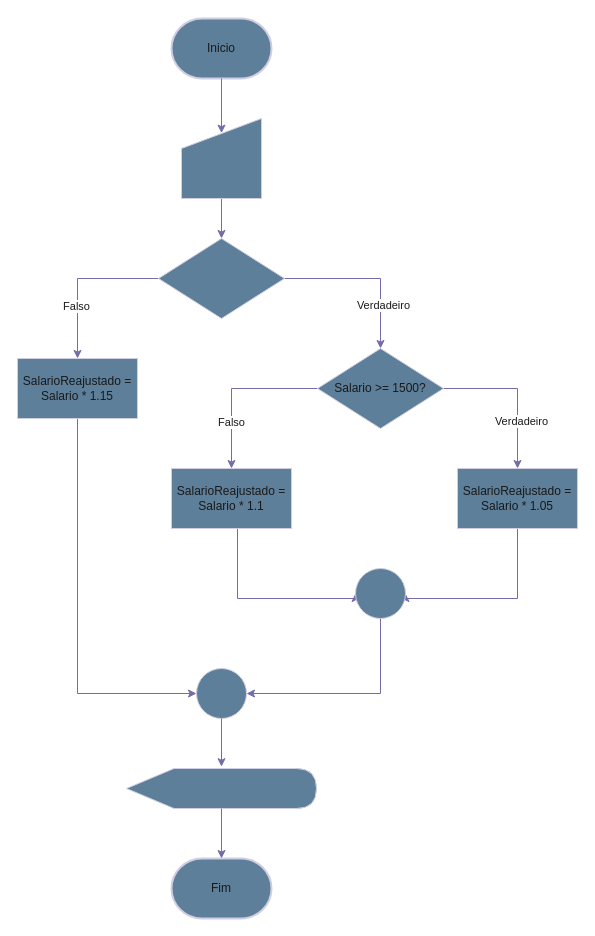
This 595x936 diagram has some shape labels left out. Each missing label, with the box of its shape:
Ler Salario: (180, 118, 262, 198)
Mostrar SalarioReajustado: (126, 768, 316, 808)
Salario >= 800?: (158, 238, 284, 318)
